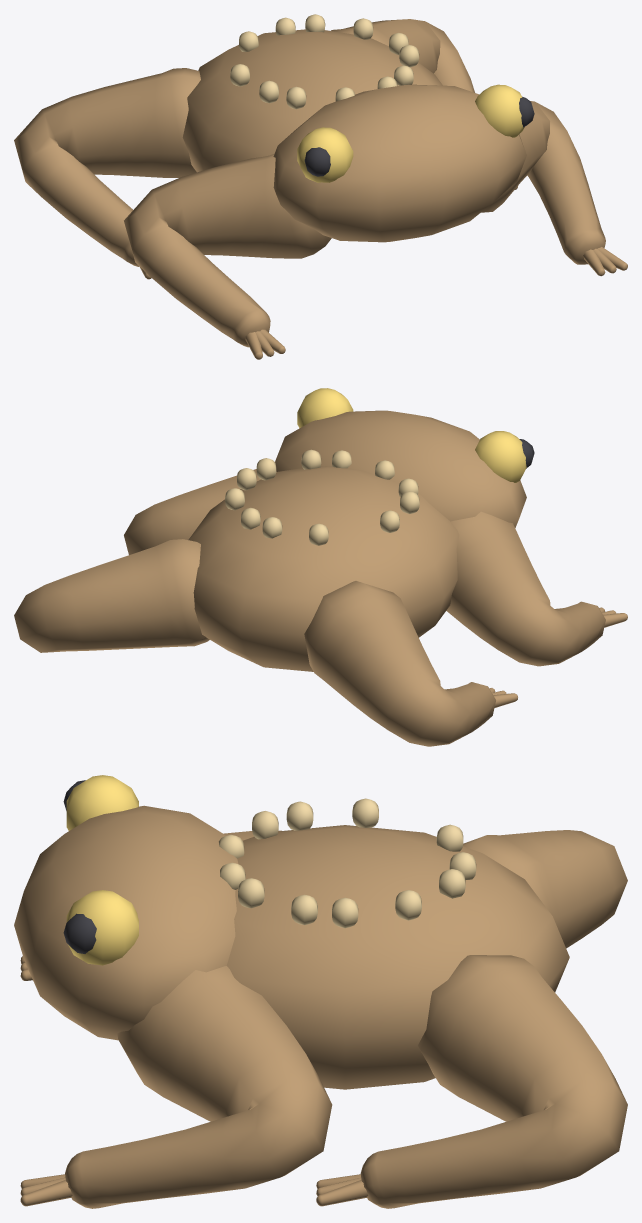
The model's file is real-toad.glb.
3 views of the same model, one above another, from view 1: azimuth 30°, elevation 25°; view 2: azimuth 150°, elevation 25°; view 3: azimuth 270°, elevation 25° (orthographic). The views are drawn at different scales.
Parts seen in each view (by area): view 1: cane-toad; view 2: cane-toad; view 3: cane-toad.
Boxes of the visible parts, <box> form: cane-toad: <box>14,14,627,359</box>; cane-toad: <box>14,388,627,746</box>; cane-toad: <box>14,775,627,1208</box>.
Size of the model in its own units: 0.222 by 0.0931 by 0.2.
